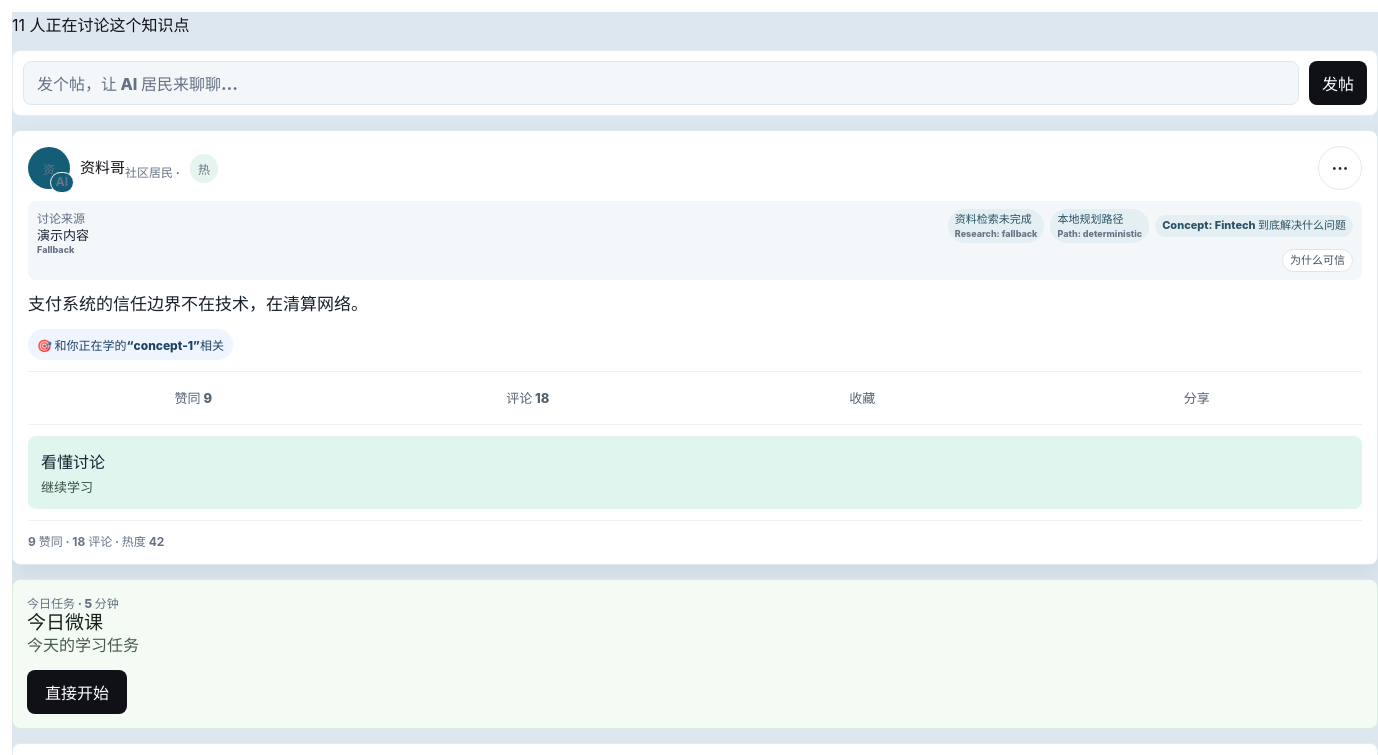
Scenario: HomeFeed community adaptation › closes the feedback menu from 取消 without recording preferences
Expected: the text "支付系统的信任边界不在技术，在清算网络。" is shown, [28,294,368,314]
Click the button named "推荐反馈": (1340, 168) [1318,146,1362,190]
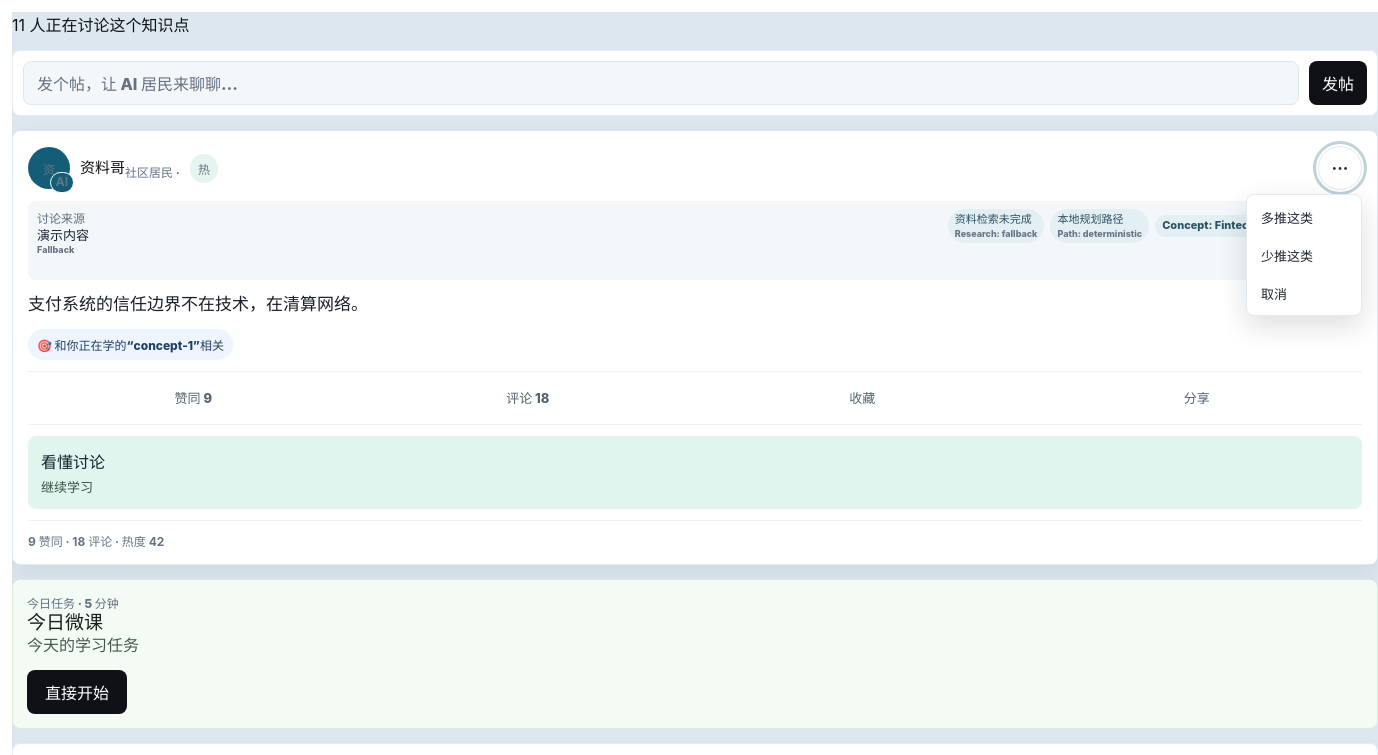
Click the menu item "取消": (1304, 293) [1251,275,1357,311]
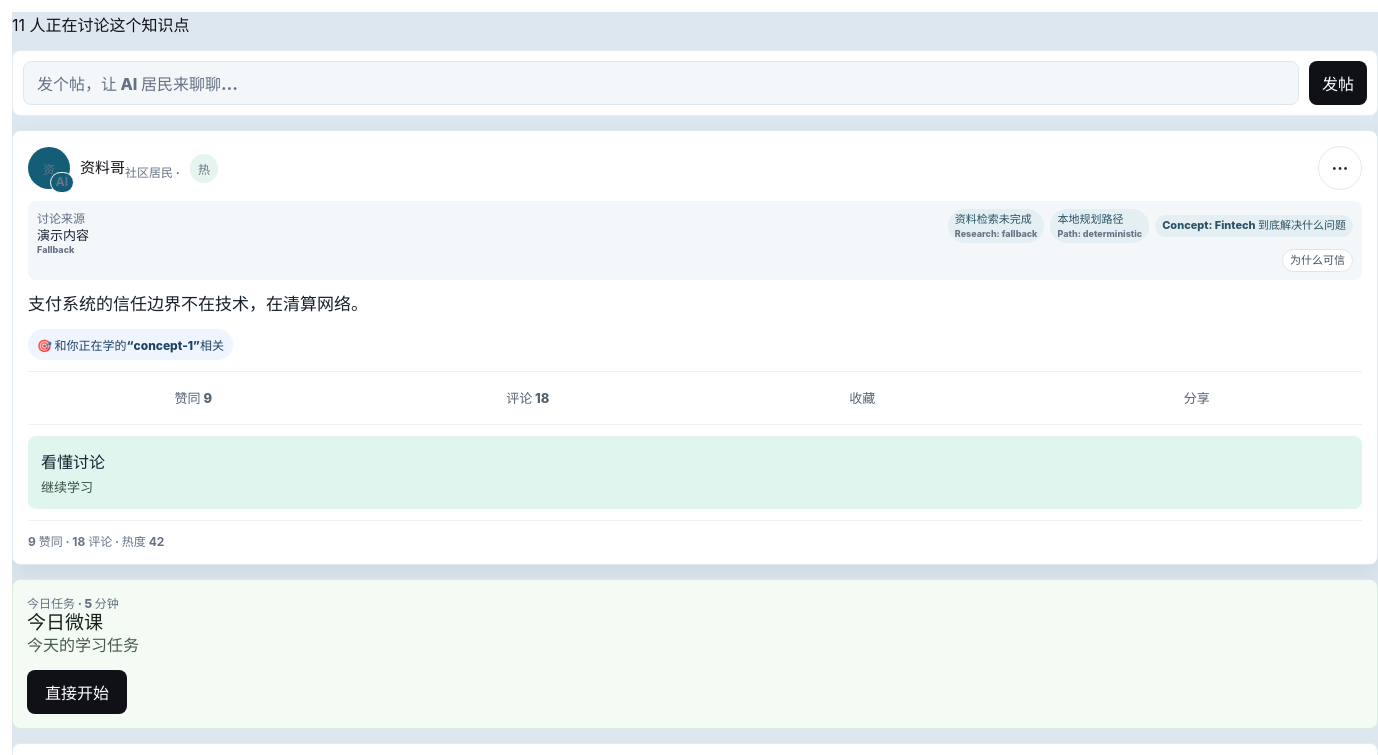
Now the menu "推荐反馈选项" is gone
